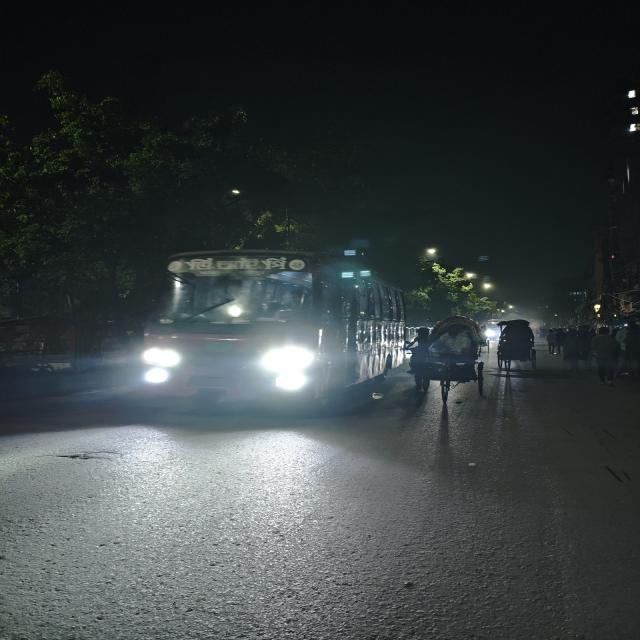bus: (134, 245, 406, 430)
pedestrian: (590, 326, 621, 386), (619, 318, 640, 378), (563, 325, 588, 373), (544, 324, 563, 358), (576, 322, 594, 345)
rickshaw: (400, 312, 490, 398), (492, 318, 538, 374)
